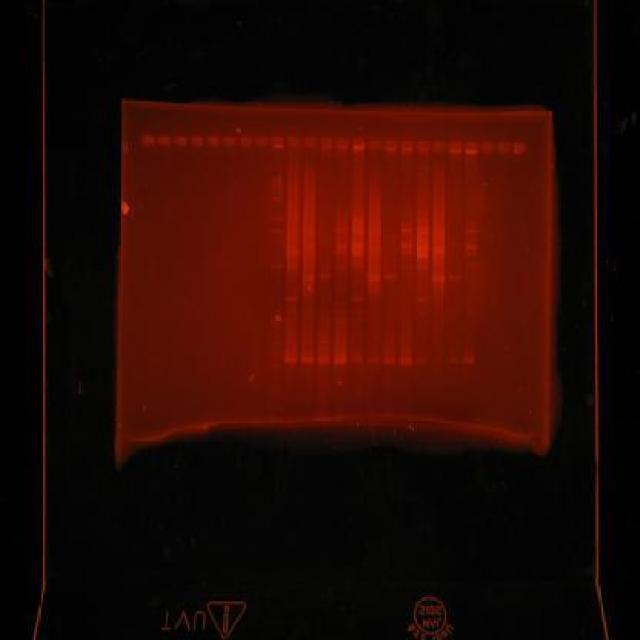B: (283, 354, 299, 364), (300, 356, 316, 364), (332, 357, 348, 365), (317, 356, 331, 364), (349, 356, 363, 364), (398, 356, 412, 364), (414, 358, 428, 366), (334, 242, 348, 250), (334, 308, 348, 316), (334, 318, 348, 326), (334, 285, 348, 293), (416, 252, 430, 260), (416, 244, 430, 252), (416, 236, 430, 244), (432, 275, 446, 283), (464, 243, 478, 251), (367, 274, 381, 282), (462, 356, 475, 364), (286, 262, 299, 270), (285, 308, 298, 316), (416, 215, 429, 223), (432, 246, 445, 254), (432, 238, 445, 246), (351, 242, 364, 250), (334, 226, 350, 232), (400, 242, 412, 250), (382, 358, 396, 364), (334, 250, 348, 256), (334, 264, 348, 270), (318, 272, 332, 278), (286, 251, 300, 257), (284, 296, 298, 302), (302, 274, 316, 280), (416, 264, 430, 270), (416, 224, 430, 230), (399, 227, 413, 233), (448, 242, 462, 248), (464, 251, 478, 257), (464, 228, 478, 234), (464, 261, 478, 267), (383, 273, 397, 279), (334, 348, 348, 354), (366, 357, 379, 363), (446, 357, 459, 363), (286, 246, 299, 252), (285, 318, 298, 324), (415, 297, 428, 303), (416, 231, 429, 237), (448, 274, 461, 280), (432, 233, 445, 239), (432, 226, 445, 232), (465, 218, 478, 224), (415, 310, 428, 316), (351, 308, 364, 314), (351, 262, 364, 268), (351, 250, 364, 256), (351, 228, 364, 234), (351, 220, 364, 226), (351, 216, 364, 222), (318, 347, 330, 353), (400, 221, 412, 227), (400, 250, 412, 256), (400, 264, 412, 270), (318, 339, 331, 344), (351, 296, 364, 301), (464, 224, 478, 228), (351, 225, 364, 228)
L: (138, 128, 532, 158)
M: (266, 132, 285, 403)
P: (270, 194, 282, 203), (269, 320, 282, 328), (267, 392, 281, 399), (268, 383, 280, 391), (268, 362, 280, 370), (268, 340, 280, 348), (269, 215, 282, 222), (268, 352, 281, 358), (269, 263, 282, 269), (270, 228, 282, 234), (270, 185, 284, 190), (272, 190, 282, 195), (270, 183, 284, 186)
Pc: (285, 133, 301, 150), (383, 138, 399, 154), (496, 142, 513, 156), (172, 134, 188, 148), (512, 142, 528, 156), (480, 140, 496, 154), (448, 140, 464, 154), (431, 139, 447, 153), (416, 139, 432, 153), (253, 135, 270, 148), (238, 134, 253, 148), (464, 140, 479, 154), (367, 138, 382, 152), (351, 137, 366, 151), (140, 133, 154, 147), (157, 134, 171, 148), (190, 134, 204, 148), (206, 134, 220, 148), (222, 134, 236, 148), (400, 138, 414, 152), (334, 137, 348, 151), (319, 137, 333, 151), (303, 136, 317, 150), (270, 136, 284, 149)
